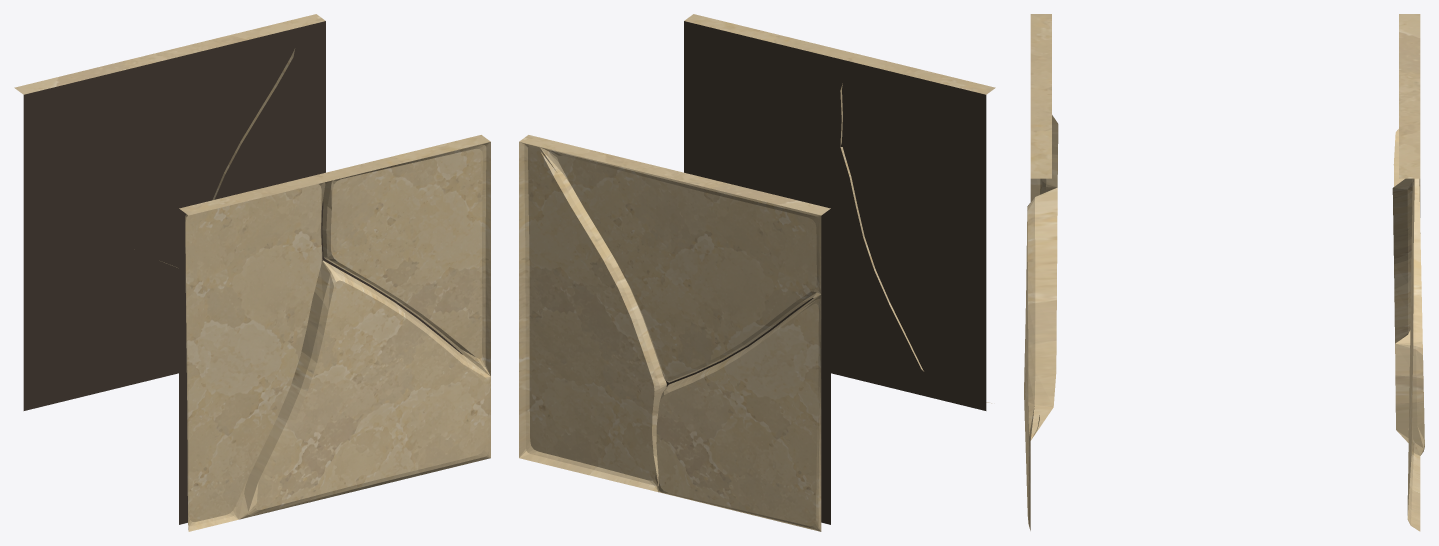
The model's file is ground_square_strip_09.glb.
3 views of the same model, side by side, from view 1: azimuth 30°, elevation 25°; view 2: azimuth 150°, elevation 25°; view 3: azimuth 270°, elevation 25° (orthographic). The views are drawn at different scales.
Parts seen in each view (by area): view 1: GroundSquareStrip09_Body; view 2: GroundSquareStrip09_Body; view 3: GroundSquareStrip09_Body.
Part boxes in pixels (x1,y1,x2,y2): GroundSquareStrip09_Body: [14, 14, 490, 531]; GroundSquareStrip09_Body: [519, 14, 995, 531]; GroundSquareStrip09_Body: [1024, 14, 1424, 531].
Bounding box in the file's own units: 1 × 1 × 1.03.
Materials: 8 (7 with a texture image).
